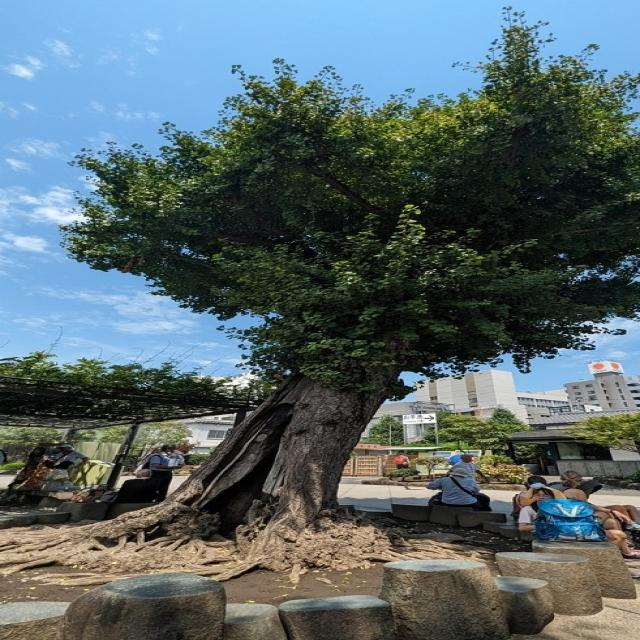ginkgo: (59, 4, 640, 544)
